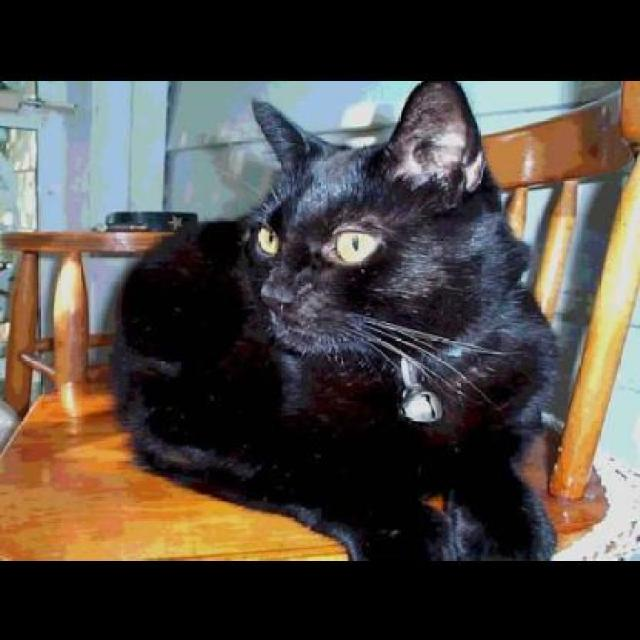unauthorized: (108, 78, 568, 560)
